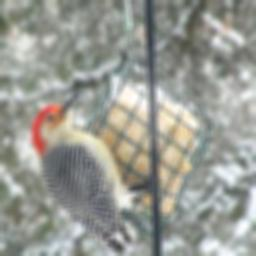Woodpecker: (32, 94, 157, 254)
